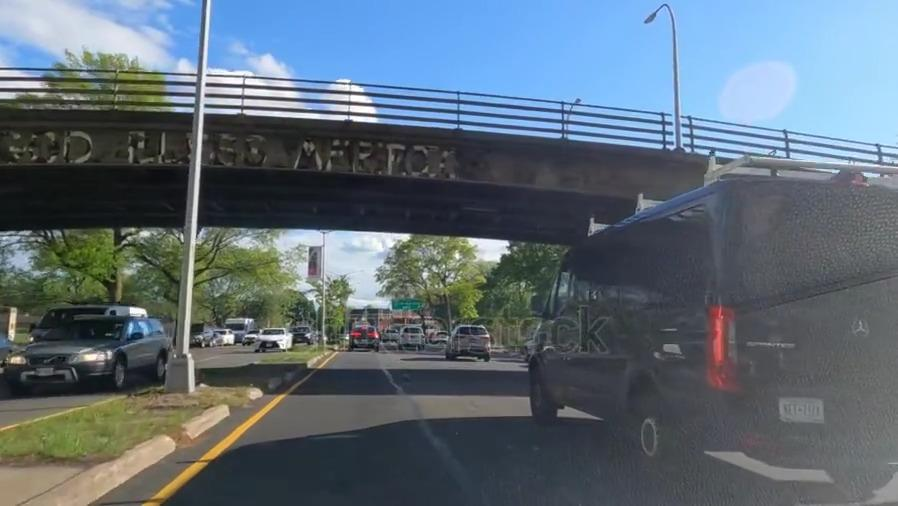car: (11, 315, 178, 395), (450, 322, 493, 358), (256, 325, 291, 355), (348, 324, 379, 355), (399, 323, 429, 350), (294, 323, 317, 347)
van: (555, 175, 895, 479)
wheel: (617, 387, 682, 482), (524, 359, 551, 420)
